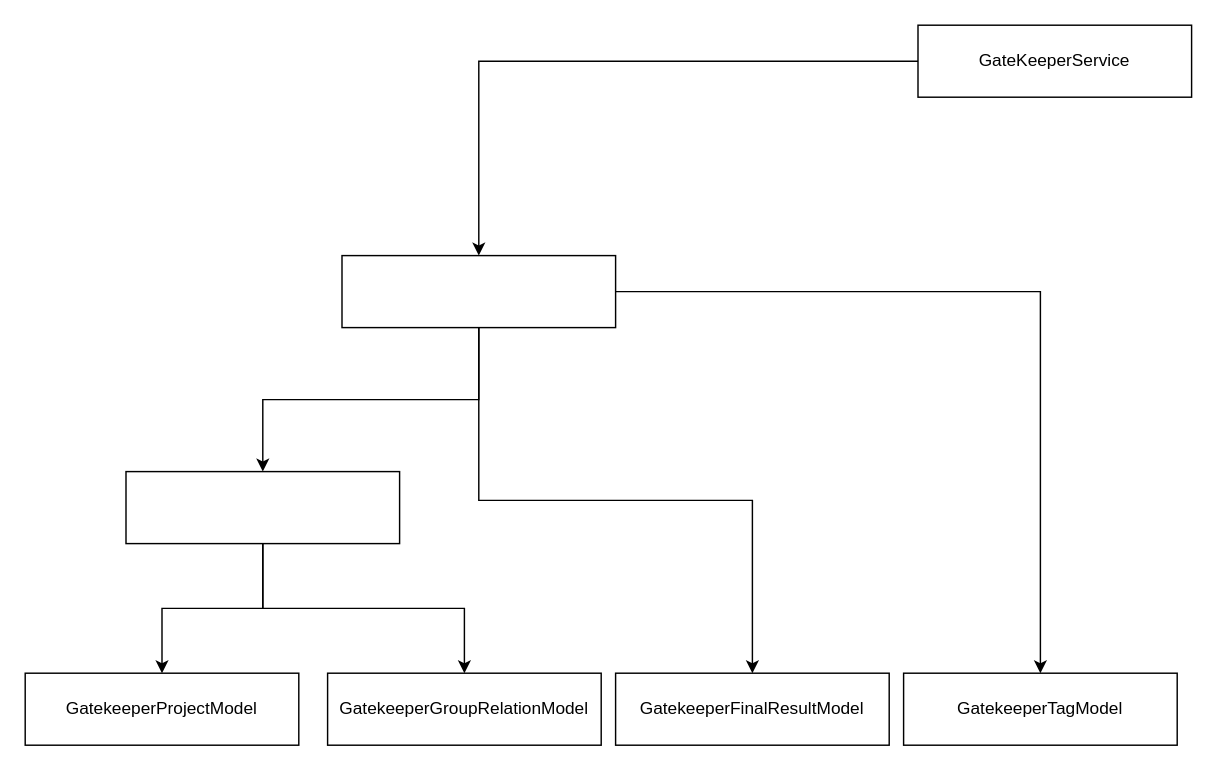
Image size: 1217x770. Some labels were removed from this diagram. The shapes that lost their labels are listed below. From the top down, each one's box as (x1, y1, x2, y2) in pixels, then its label:
(341, 254, 616, 328): GatekeeperDataService
(125, 470, 400, 544): GateKeeperInfoCache
